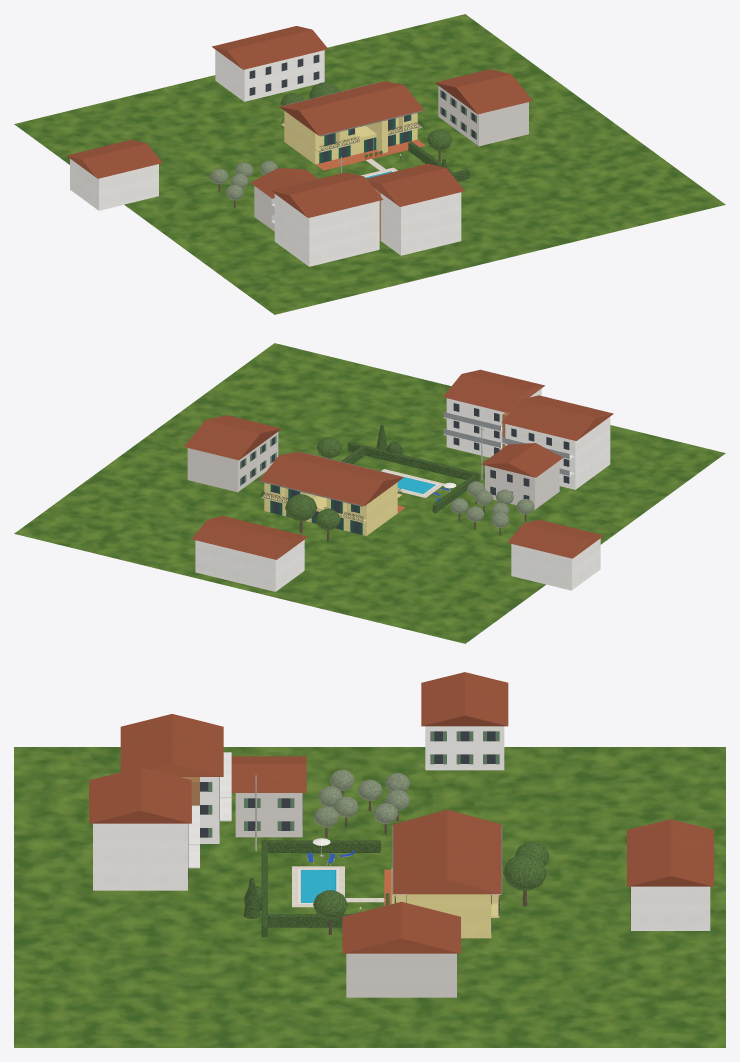
Rendered from katia-esterno.glb.
3 renders of one model, top to bottom at view 1: azimuth 30°, elevation 25°; view 2: azimuth 150°, elevation 25°; view 3: azimuth 270°, elevation 25°, orthographic. The views are drawn at different scales.
Visible parts, largest first — view 1: Esterno prato, Esterno casa sud, Esterno casa sud est, Esterno casa nord, Esterno casa est, Esterno case lontane, Esterno tetto, Esterno alberi, Esterno villetta, Esterno edificio piano terra, Esterno aperture, Esterno terrazza (+3 smaller); view 2: Esterno prato, Esterno casa nord, Esterno casa sud, Esterno casa est, Esterno case lontane, Esterno casa sud est, Esterno tetto, Esterno alberi, Esterno villetta, Esterno siepi, Esterno edificio piano terra, Esterno aperture (+2 smaller); view 3: Esterno prato, Esterno casa sud est, Esterno casa est, Esterno casa nord, Esterno tetto, Esterno case lontane, Esterno casa sud, Esterno alberi, Esterno villetta, Esterno siepi, Esterno edificio est, Esterno piscina acqua (+2 smaller).
Part boxes in pixels (left/top/right/bottom): Esterno prato: left=14, top=14, right=725, bottom=314; Esterno casa sud: left=271, top=172, right=383, bottom=266; Esterno casa sud est: left=366, top=163, right=464, bottom=255; Esterno casa nord: left=212, top=26, right=328, bottom=101; Esterno casa est: left=435, top=69, right=532, bottom=146; Esterno case lontane: left=66, top=139, right=162, bottom=210; Esterno tetto: left=280, top=81, right=423, bottom=135; Esterno alberi: left=210, top=82, right=452, bottom=207; Esterno villetta: left=250, top=168, right=317, bottom=231; Esterno edificio piano terra: left=284, top=125, right=417, bottom=164; Esterno aperture: left=319, top=114, right=411, bottom=163; Esterno terrazza: left=315, top=139, right=425, bottom=170; Esterno prato: left=14, top=343, right=725, bottom=643; Esterno casa nord: left=191, top=516, right=307, bottom=591; Esterno casa sud: left=501, top=395, right=613, bottom=489; Esterno casa est: left=184, top=415, right=281, bottom=492; Esterno case lontane: left=507, top=519, right=603, bottom=590; Esterno casa sud est: left=443, top=369, right=544, bottom=457; Esterno tetto: left=259, top=451, right=403, bottom=506; Esterno alberi: left=285, top=425, right=534, bottom=541; Esterno villetta: left=481, top=443, right=562, bottom=509; Esterno siepi: left=341, top=442, right=479, bottom=512; Esterno edificio piano terra: left=264, top=496, right=397, bottom=535; Esterno aperture: left=270, top=484, right=362, bottom=534; Esterno prato: left=14, top=747, right=725, bottom=1047; Esterno casa sud est: left=89, top=767, right=199, bottom=890; Esterno casa est: left=342, top=901, right=460, bottom=997; Esterno casa nord: left=627, top=819, right=713, bottom=930; Esterno tetto: left=393, top=809, right=501, bottom=894; Esterno case lontane: left=421, top=672, right=508, bottom=770; Esterno casa sud: left=120, top=714, right=231, bottom=843; Esterno alberi: left=243, top=769, right=549, bottom=934; Esterno villetta: left=231, top=756, right=306, bottom=837; Esterno siepi: left=261, top=839, right=380, bottom=937; Esterno edificio est: left=406, top=894, right=491, bottom=916; Esterno piscina acqua: left=301, top=870, right=336, bottom=902.
Size of the model in its own units: 95.5 by 12.8 by 90.
31 materials, 29 textured.
